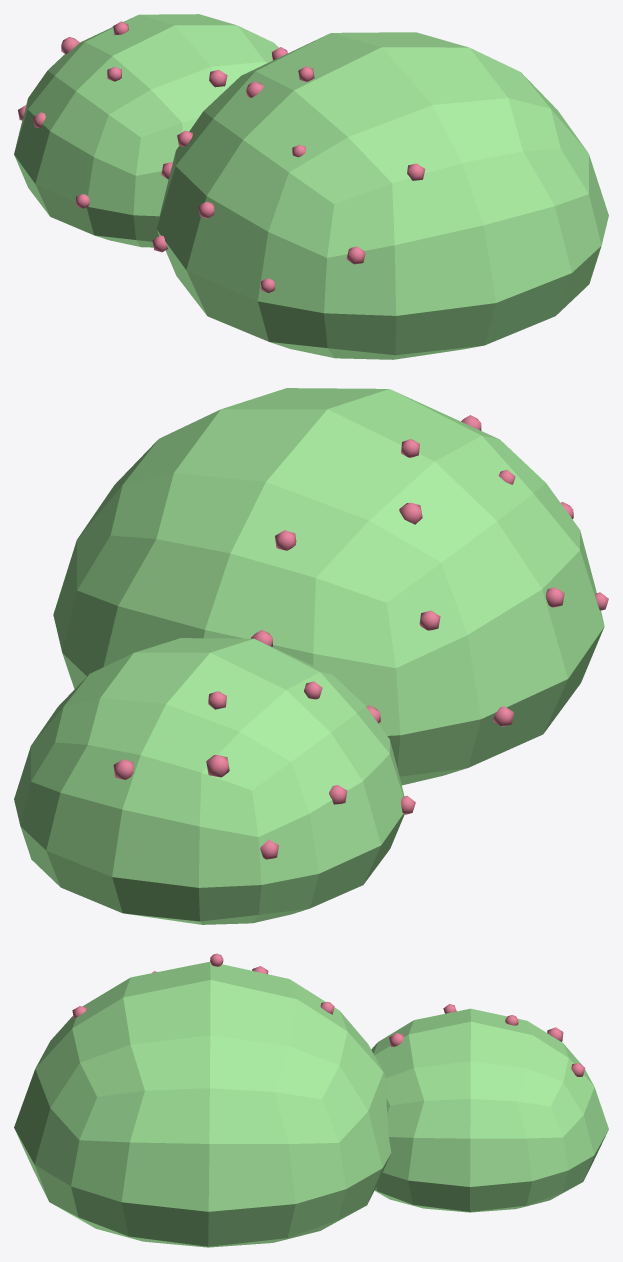
File: Spring_Obstacle.fbx
3 views of the same model, one above another, from view 1: azimuth 30°, elevation 25°; view 2: azimuth 150°, elevation 25°; view 3: azimuth 270°, elevation 25° (orthographic). The views are drawn at different scales.
Visible parts, largest first — view 1: Tree.186, Flowers.038; view 2: Tree.186, Flowers.038; view 3: Tree.186, Flowers.038.
Boxes of the visible parts, <box> form: Tree.186: <box>14,14,608,359</box>; Flowers.038: <box>18,21,425,292</box>; Tree.186: <box>14,388,604,924</box>; Flowers.038: <box>113,415,608,859</box>; Tree.186: <box>14,961,608,1247</box>; Flowers.038: <box>72,953,585,1076</box>.
Size of the model in its own units: 611 by 379 by 933.
